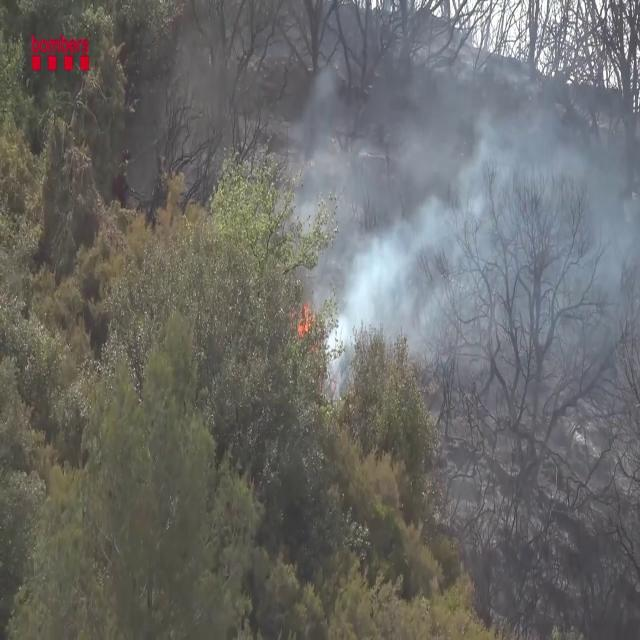Smoke: (305, 13, 640, 446)
